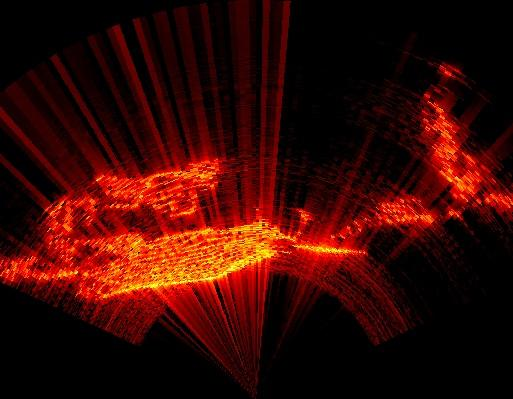shipwreck: (0, 196, 362, 297), (424, 91, 506, 203), (96, 159, 219, 216), (342, 195, 434, 237)
